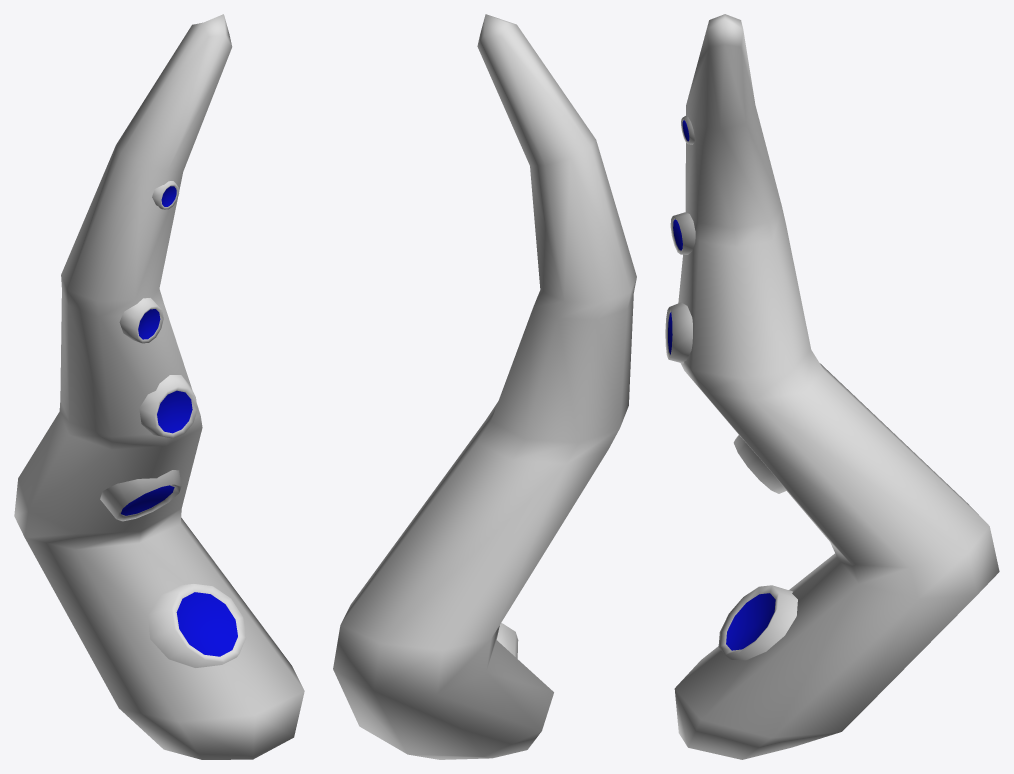
The model's file is SM_Tentacle_Small2.fbx.
3 renders of one model, left to right at view 1: azimuth 30°, elevation 25°; view 2: azimuth 150°, elevation 25°; view 3: azimuth 270°, elevation 25°, orthographic. The views are drawn at different scales.
Visible parts, largest first — view 1: Tentacle_Small2; view 2: Tentacle_Small2; view 3: Tentacle_Small2.
Boxes of the visible parts, box(x1,y1,x2,y2) form: Tentacle_Small2: box(14, 14, 304, 759); Tentacle_Small2: box(333, 14, 636, 759); Tentacle_Small2: box(665, 14, 999, 759).
Bounding box in the file's own units: 102 × 297 × 124.
